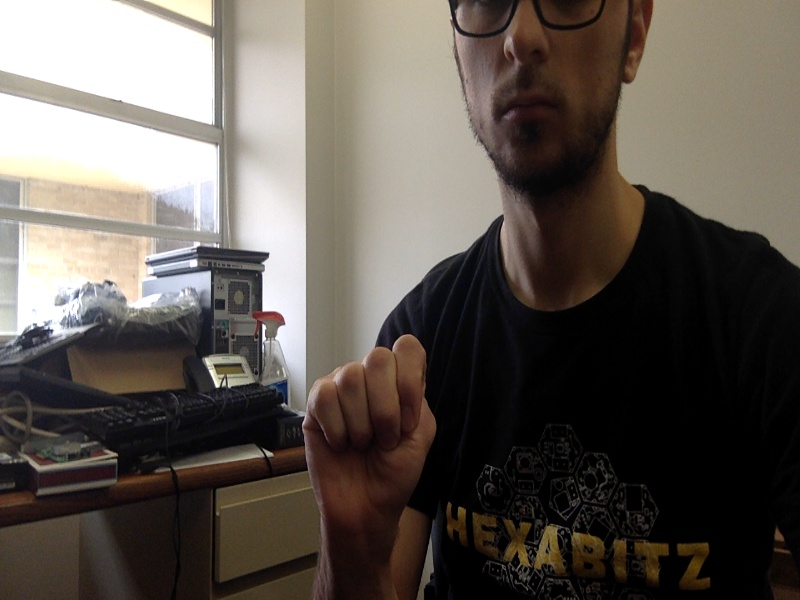0-hand: (304, 334, 438, 518)
